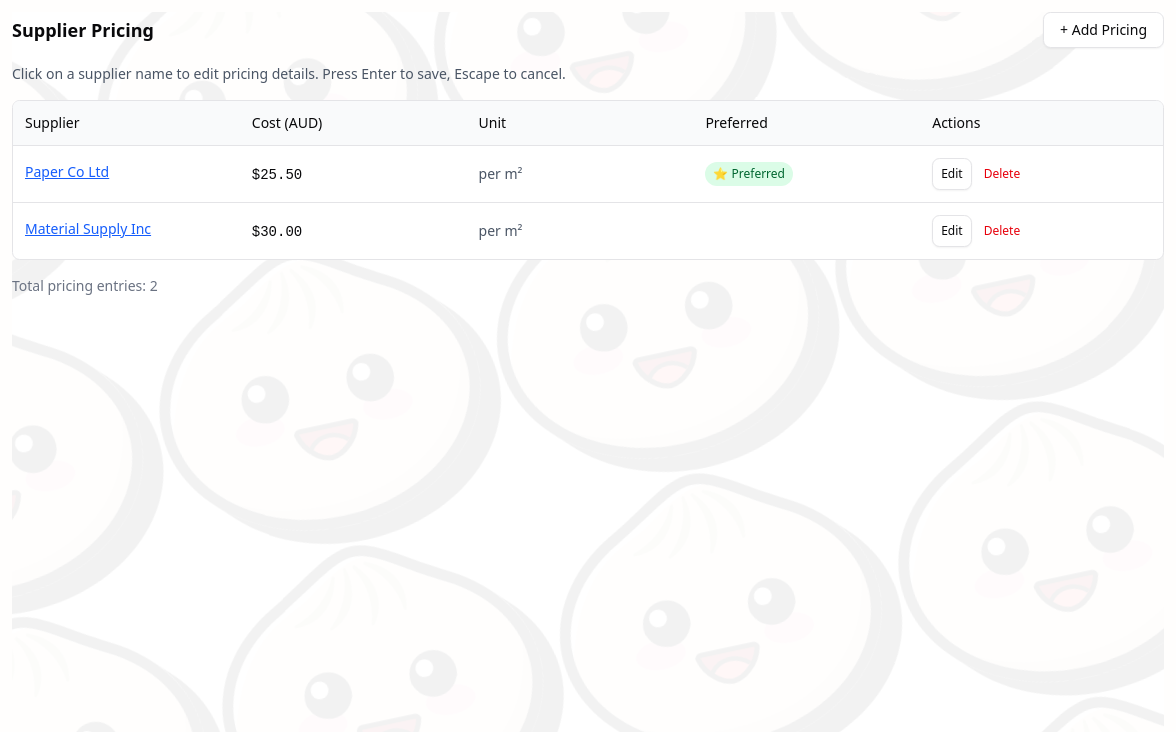
Scenario: SupplierPricingEditor › Edit Existing Pricing › cancels editing correctly
Click the button "Edit" next to "⭐ Preferred". click: [952, 174]
box: [932, 158, 972, 190]
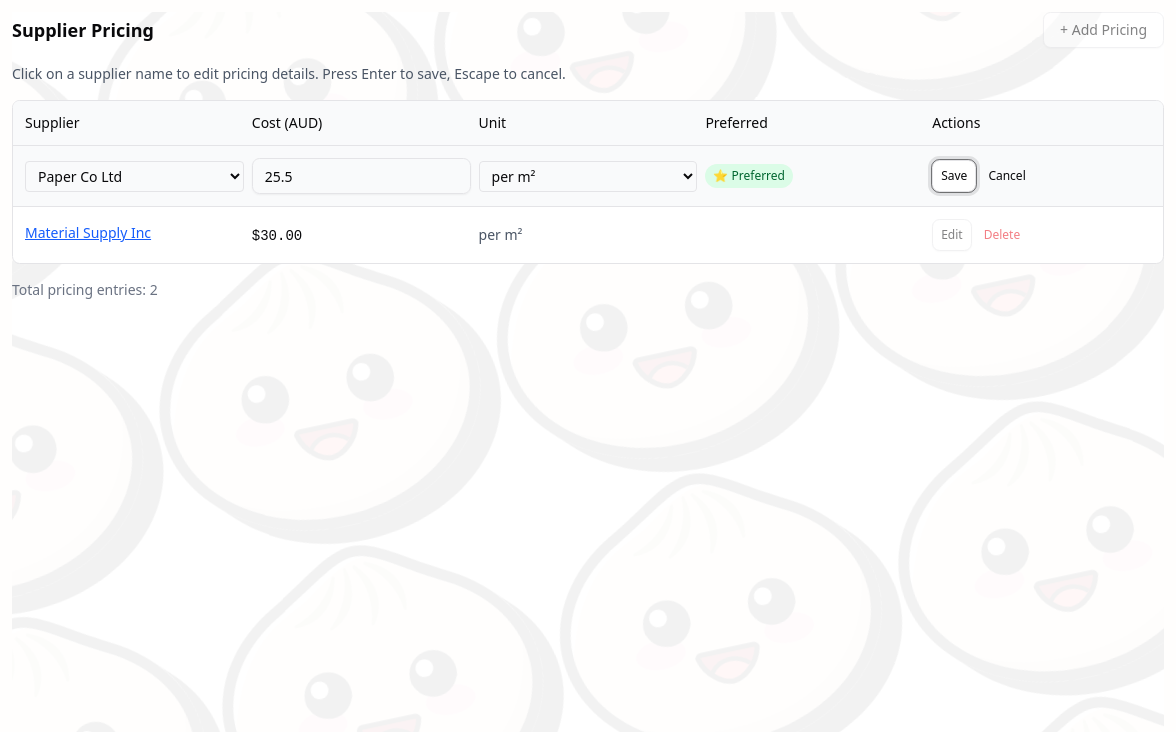
Click the button "Cancel". click: [1007, 176]
box: [980, 160, 1034, 192]
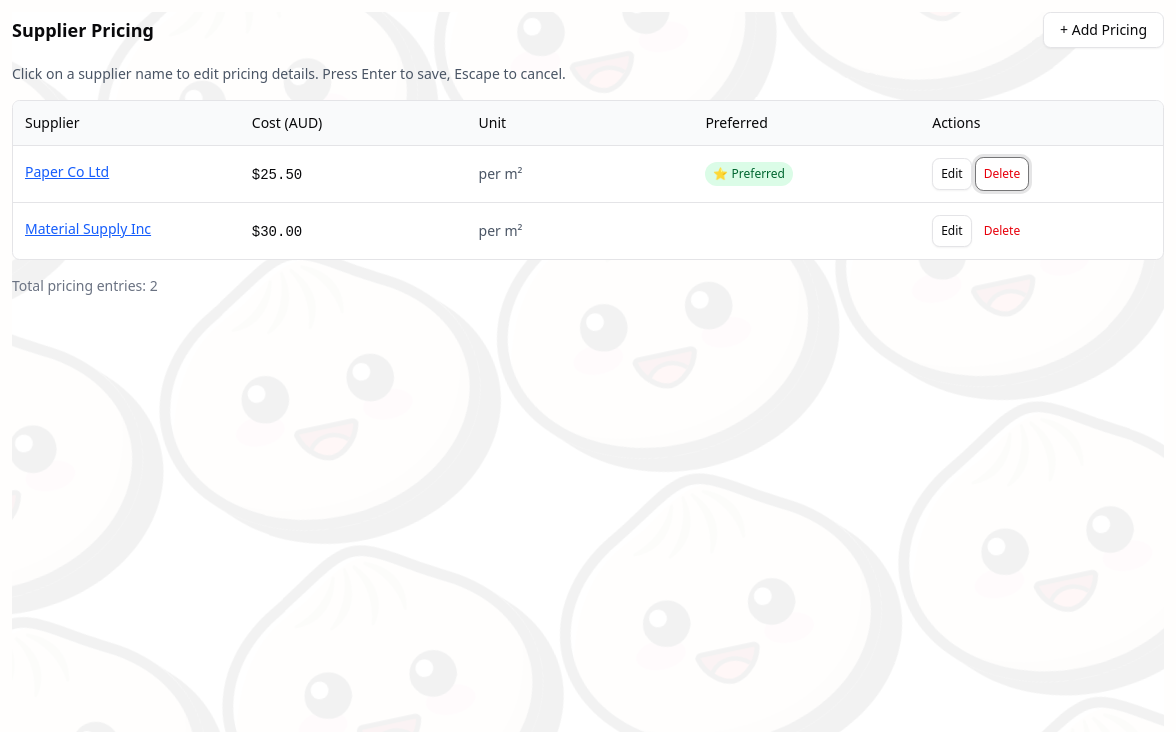
Result: the button "Paper Co Ltd" is shown at [25, 162, 244, 182]
